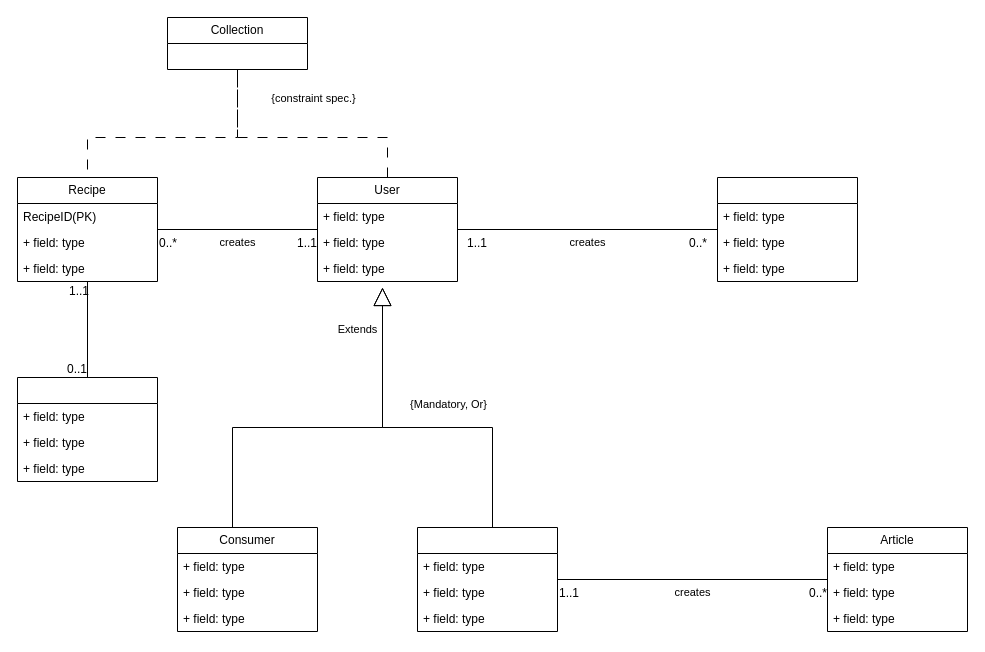
The diagram is 985 pixels wide and 652 high, and some of its shapes have lost their labels. Here are the shapes that lost their labels. From the top down, the box of each, then its label:
(716, 176, 858, 282): Comment
(16, 376, 158, 482): Nutrition
(416, 526, 558, 632): Editor
